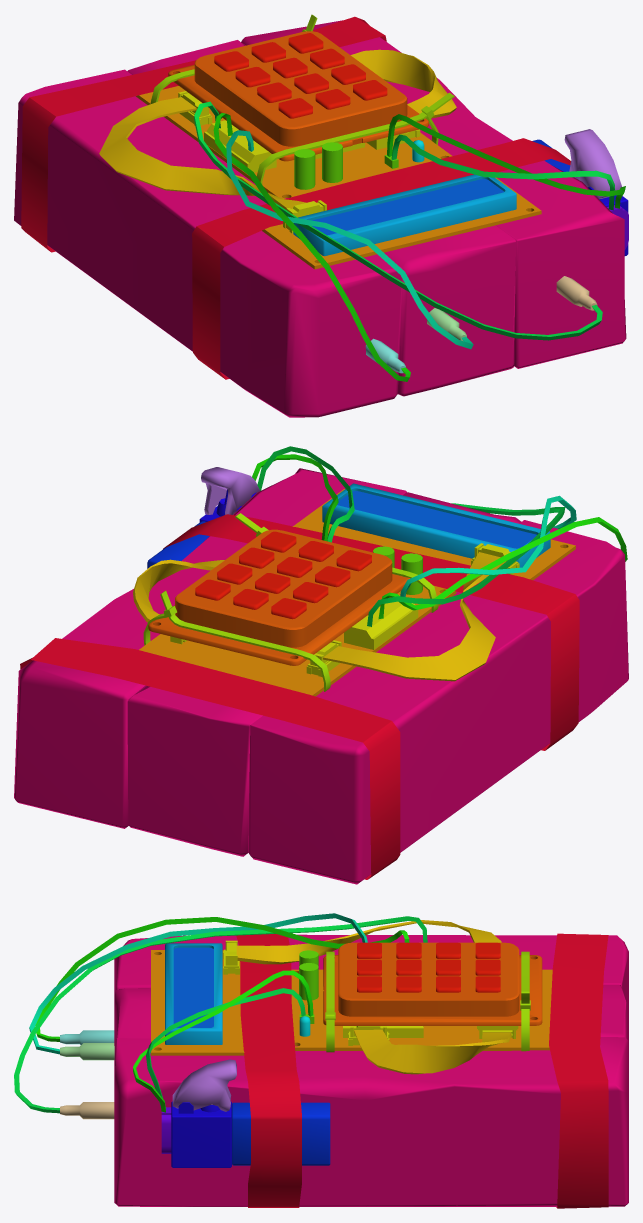
3 views of the same model, one above another, from view 1: azimuth 30°, elevation 25°; view 2: azimuth 150°, elevation 25°; view 3: azimuth 270°, elevation 25° (orthographic). The views are drawn at different scales.
Visible parts, largest first — view 1: models/weapons/w_eq_c4.001; view 2: models/weapons/w_eq_c4.001; view 3: models/weapons/w_eq_c4.001.
Boxes of the visible parts, x1=… form: models/weapons/w_eq_c4.001: x1=14, y1=14, x2=628, y2=417; models/weapons/w_eq_c4.001: x1=14, y1=446, x2=628, y2=884; models/weapons/w_eq_c4.001: x1=14, y1=913, x2=628, y2=1208.
Size of the model in its own units: 716 by 352 by 1081.
